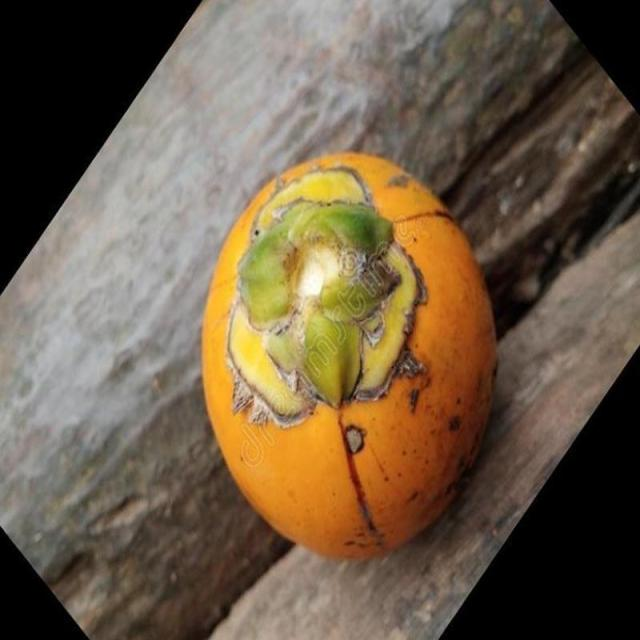good: (199, 153, 498, 563)
